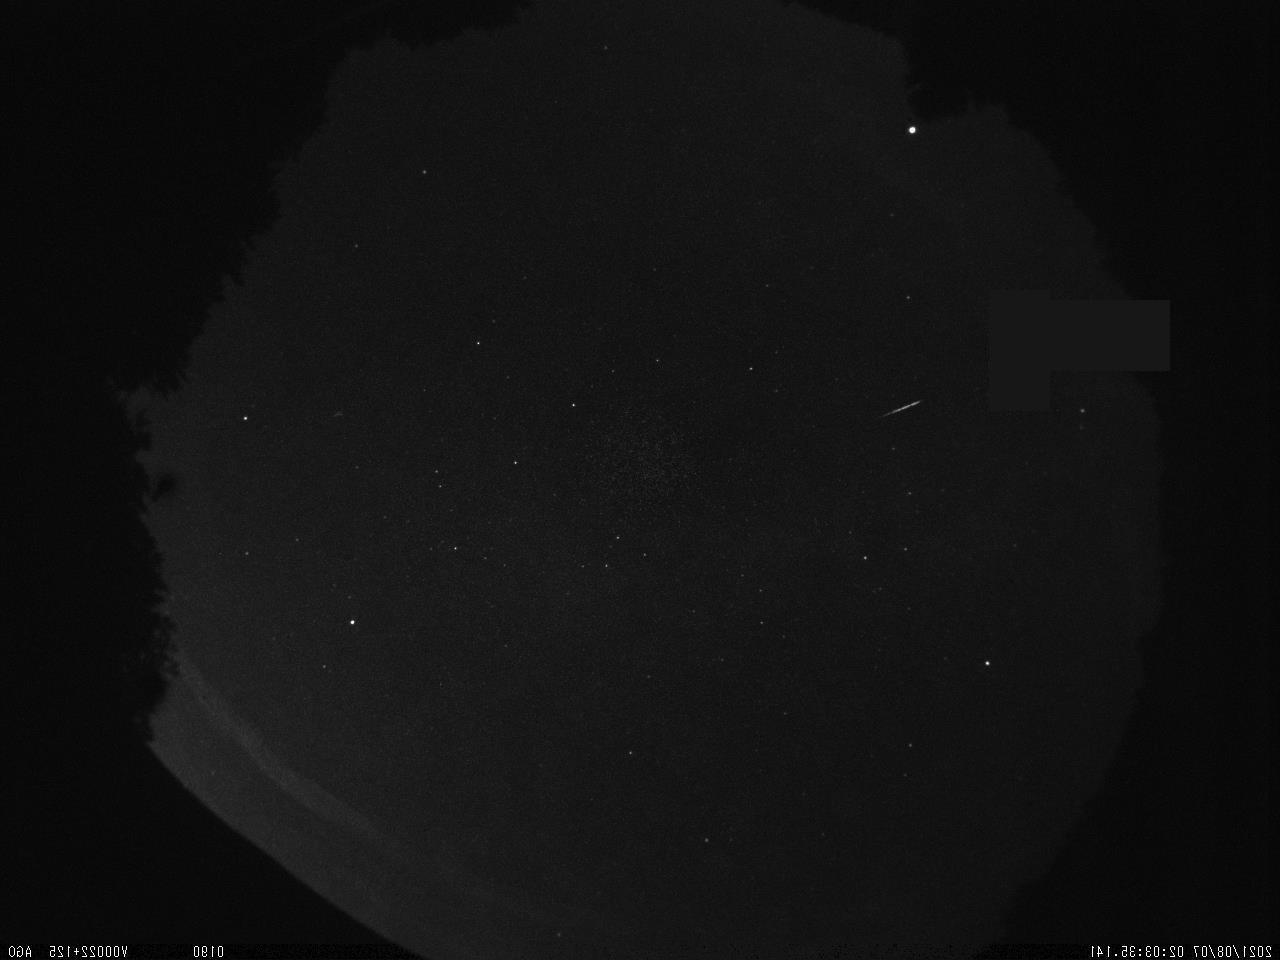meteor: (870, 385, 936, 434)
